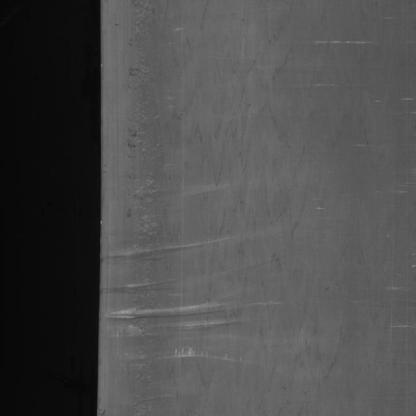crease: (112, 300, 245, 334), (111, 236, 222, 263), (109, 275, 176, 297)
